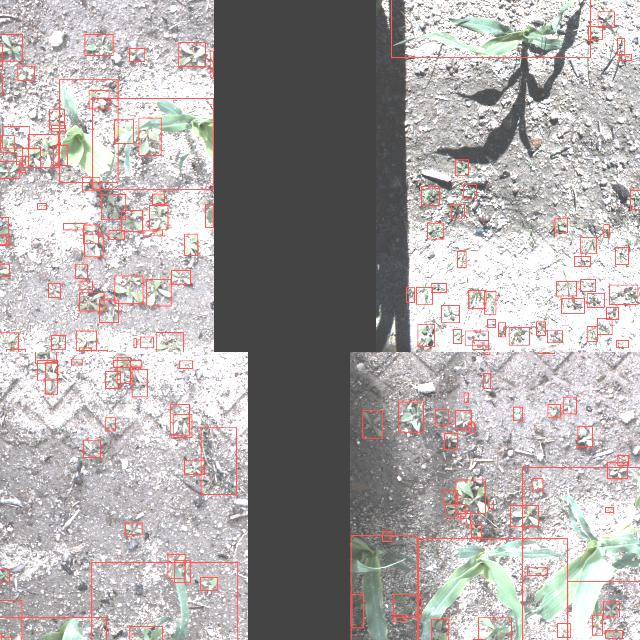crop: (522, 467, 640, 640), (418, 539, 568, 640), (391, 0, 590, 57), (91, 563, 238, 640), (92, 99, 214, 190), (350, 536, 417, 640), (60, 80, 119, 182), (567, 580, 640, 640), (2, 126, 30, 148), (468, 291, 486, 309), (556, 280, 576, 296), (484, 292, 496, 314), (416, 288, 432, 304), (206, 205, 214, 228)
weed: (201, 428, 237, 494), (28, 134, 58, 168), (455, 480, 485, 514), (139, 118, 161, 154), (115, 276, 143, 304), (478, 618, 511, 640), (398, 402, 422, 432), (100, 194, 126, 220), (146, 280, 172, 306), (178, 43, 206, 67), (393, 594, 421, 618), (85, 34, 113, 56), (170, 405, 190, 435), (509, 506, 538, 526), (0, 34, 21, 61), (610, 285, 638, 305), (362, 410, 382, 438), (156, 332, 183, 352), (121, 210, 142, 232), (129, 626, 162, 640), (115, 120, 134, 144), (44, 362, 58, 394), (99, 300, 119, 322), (80, 293, 104, 311), (150, 205, 168, 229), (132, 369, 148, 396), (174, 414, 192, 438), (168, 554, 186, 578), (85, 234, 104, 256), (351, 594, 363, 628), (89, 90, 109, 110), (76, 331, 96, 351), (37, 360, 57, 380), (173, 561, 190, 583), (117, 357, 131, 383), (22, 148, 40, 168), (509, 327, 529, 345), (430, 619, 447, 640), (562, 298, 584, 314), (418, 324, 434, 346), (0, 333, 18, 352), (421, 187, 439, 206), (464, 331, 488, 345), (0, 161, 19, 178), (52, 145, 68, 165), (608, 462, 628, 478), (184, 234, 198, 256), (441, 306, 459, 322), (84, 440, 100, 458), (455, 410, 471, 428), (171, 270, 191, 284), (185, 460, 205, 474), (578, 427, 592, 447), (598, 12, 614, 28), (427, 223, 443, 239), (581, 237, 597, 253), (50, 110, 64, 128), (82, 177, 100, 191), (84, 225, 98, 243), (445, 505, 465, 517), (35, 352, 56, 363), (18, 66, 34, 80), (129, 48, 145, 62), (0, 136, 14, 152), (0, 217, 8, 245), (588, 293, 604, 307), (598, 318, 612, 334), (113, 360, 141, 368), (106, 372, 120, 388), (444, 433, 458, 449), (603, 602, 619, 616), (200, 578, 218, 590), (564, 396, 576, 414), (630, 190, 640, 210), (592, 615, 602, 635), (51, 335, 65, 349), (588, 26, 602, 40), (554, 218, 568, 232), (443, 490, 457, 504), (456, 160, 468, 176), (580, 279, 596, 291), (616, 248, 628, 264), (126, 523, 142, 535), (451, 204, 464, 218), (456, 250, 466, 268), (48, 284, 60, 298), (75, 264, 87, 278), (464, 184, 476, 198), (606, 306, 618, 320), (548, 330, 562, 342), (436, 410, 448, 424), (548, 404, 560, 418), (558, 623, 570, 637), (109, 230, 125, 240), (472, 340, 488, 350), (574, 256, 590, 266), (587, 326, 597, 342), (527, 568, 547, 576), (140, 337, 154, 348), (64, 223, 85, 230), (617, 38, 625, 56), (452, 329, 462, 343), (536, 322, 546, 336), (513, 407, 523, 421), (152, 193, 164, 204), (430, 284, 446, 292), (606, 630, 622, 638), (143, 230, 163, 236), (106, 418, 116, 430), (532, 479, 542, 491), (460, 512, 470, 524), (471, 524, 481, 536), (0, 263, 9, 276), (0, 569, 9, 582), (498, 323, 506, 337), (406, 288, 414, 302), (392, 614, 406, 622), (210, 51, 214, 77), (618, 455, 628, 465), (382, 531, 392, 541), (484, 374, 491, 388), (80, 282, 92, 290), (616, 340, 628, 348), (180, 361, 192, 369), (51, 125, 65, 131), (16, 156, 26, 164), (619, 54, 631, 60), (70, 359, 82, 365), (487, 319, 495, 327), (79, 347, 91, 352), (468, 423, 474, 433), (604, 225, 608, 238), (0, 235, 5, 245), (38, 203, 46, 209), (488, 501, 494, 509), (464, 393, 468, 403), (606, 508, 614, 512), (134, 338, 136, 348), (482, 352, 489, 354), (20, 171, 26, 173)
